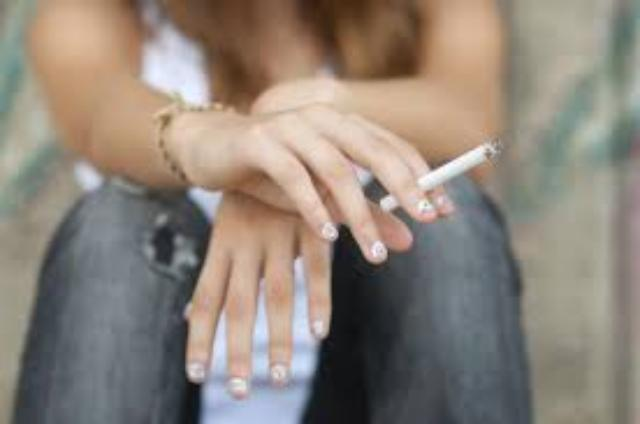Smoking: (381, 140, 502, 214)
